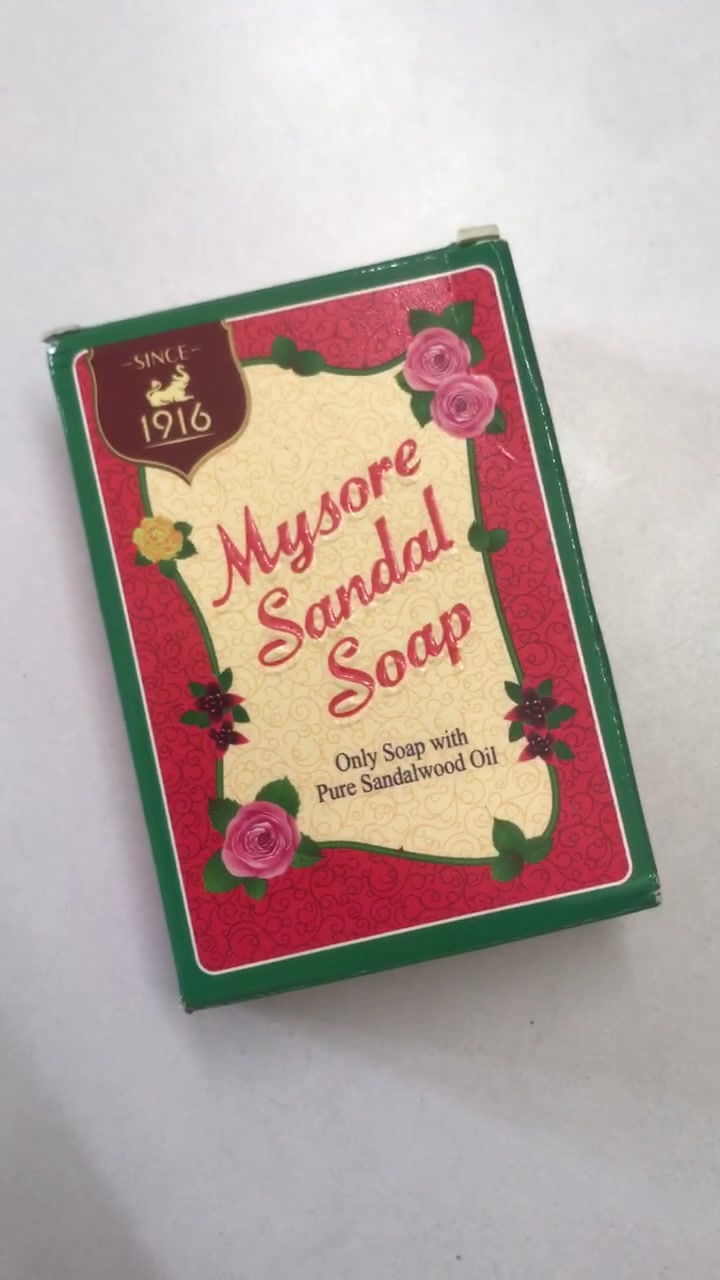mysore sandal soap: (44, 237, 646, 1013)
